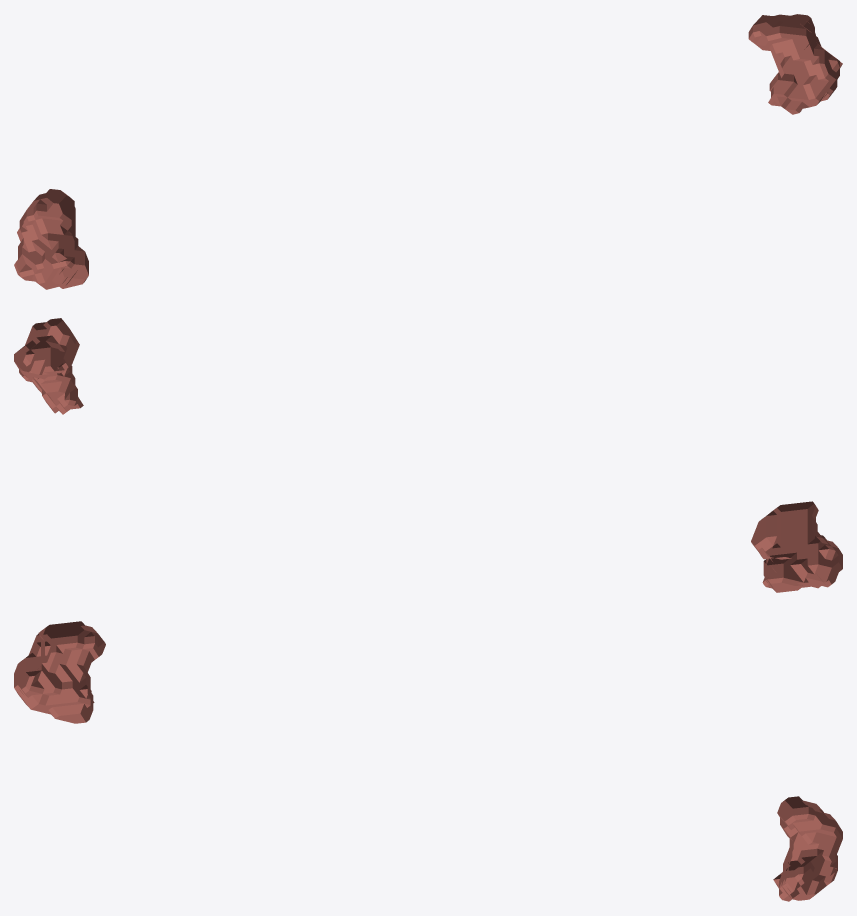
The model's file is region_0186_Vsr__sensory_root_of_the_trigeminal_nerve_.glb.
3 views of the same model, one above another, from view 1: azimuth 30°, elevation 25°; view 2: azimuth 150°, elevation 25°; view 3: azimuth 330°, elevation 25° (orthographic).
Parts seen in each view (by area): view 1: world; view 2: world; view 3: world.
Boxes of the visible parts, bbox=[...] form: world: bbox=[14, 14, 842, 289]; world: bbox=[14, 318, 842, 592]; world: bbox=[14, 621, 842, 901].
Size of the model in its own units: 0.968 by 0.096 by 0.104.
